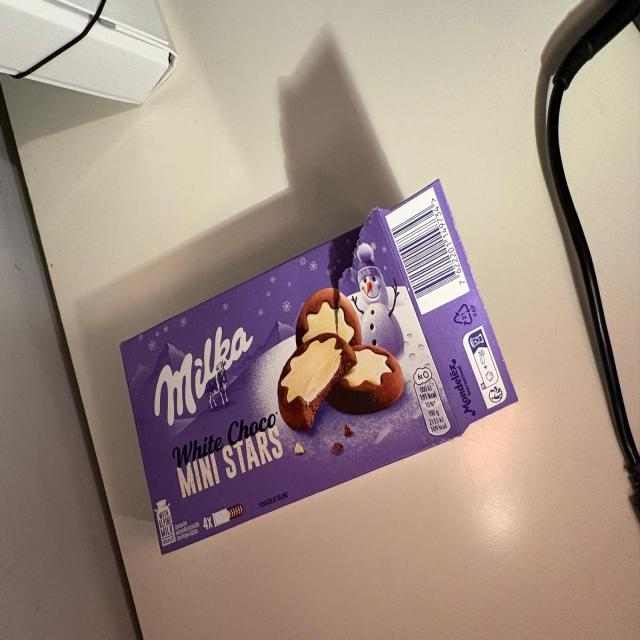damaged_package: (121, 180, 519, 554)
